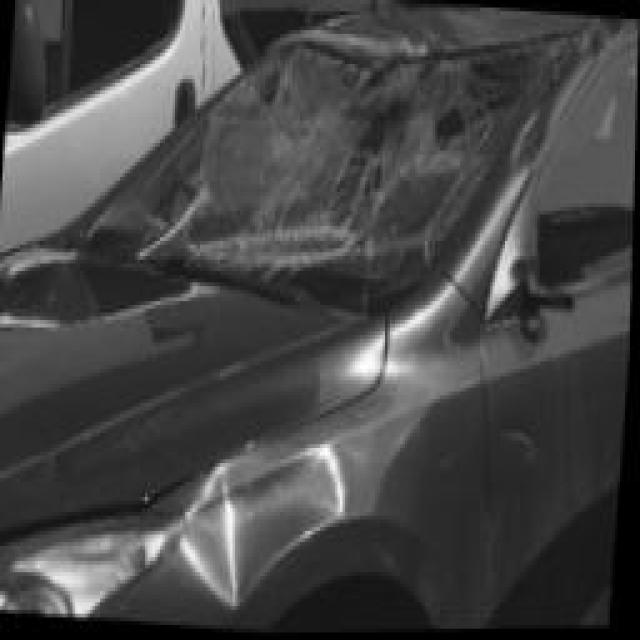Fender: (159, 392, 487, 632)
Windshield: (52, 32, 576, 316)
